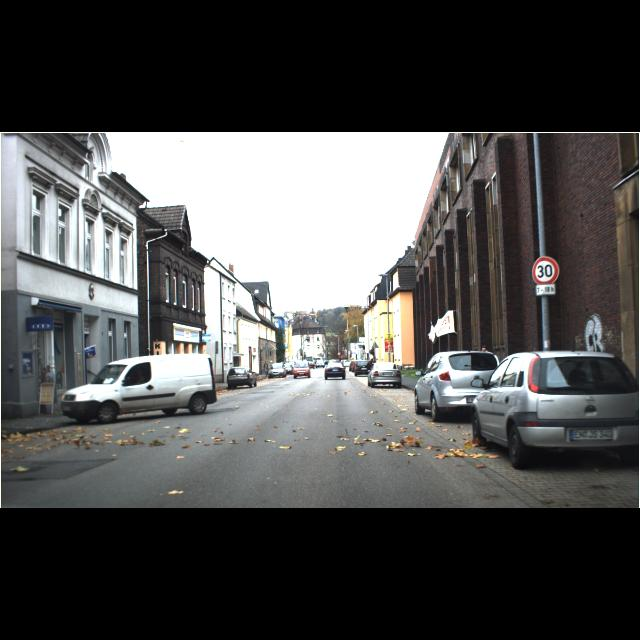prohibitory: (532, 257, 558, 285)
